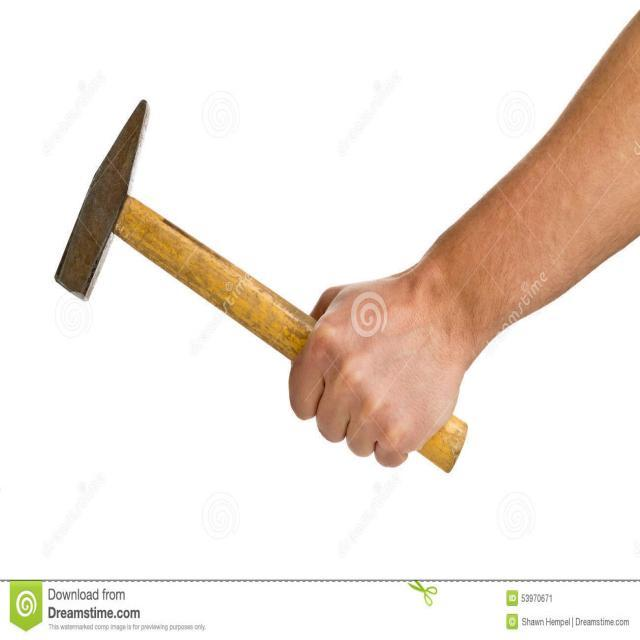hammer: (47, 88, 474, 476)
